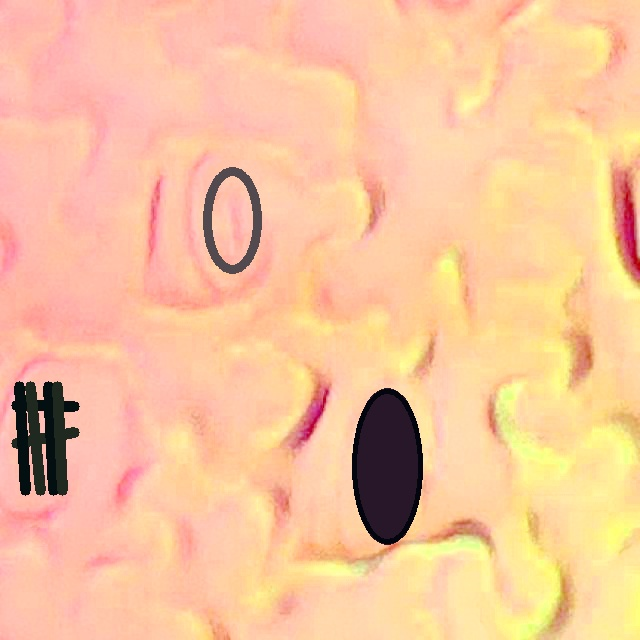close: (352, 388, 422, 545), (11, 381, 78, 495), (203, 167, 260, 273)
